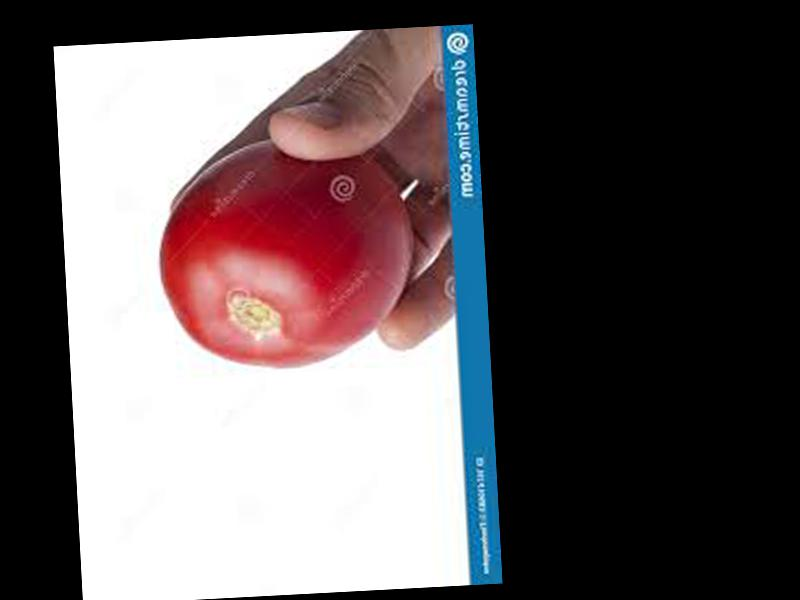Tomato: (154, 131, 417, 373)
